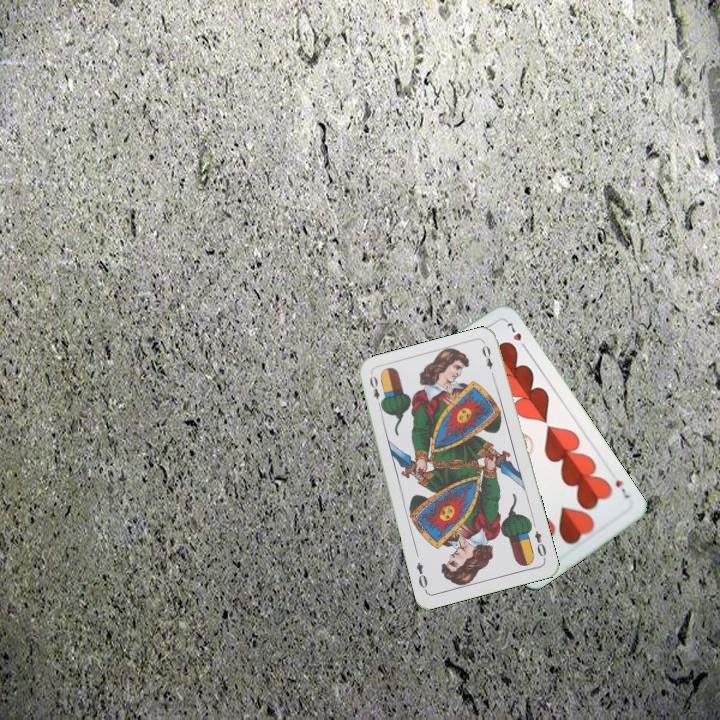EO: (365, 371, 386, 411), (530, 527, 549, 562)
H7: (611, 476, 632, 501)
